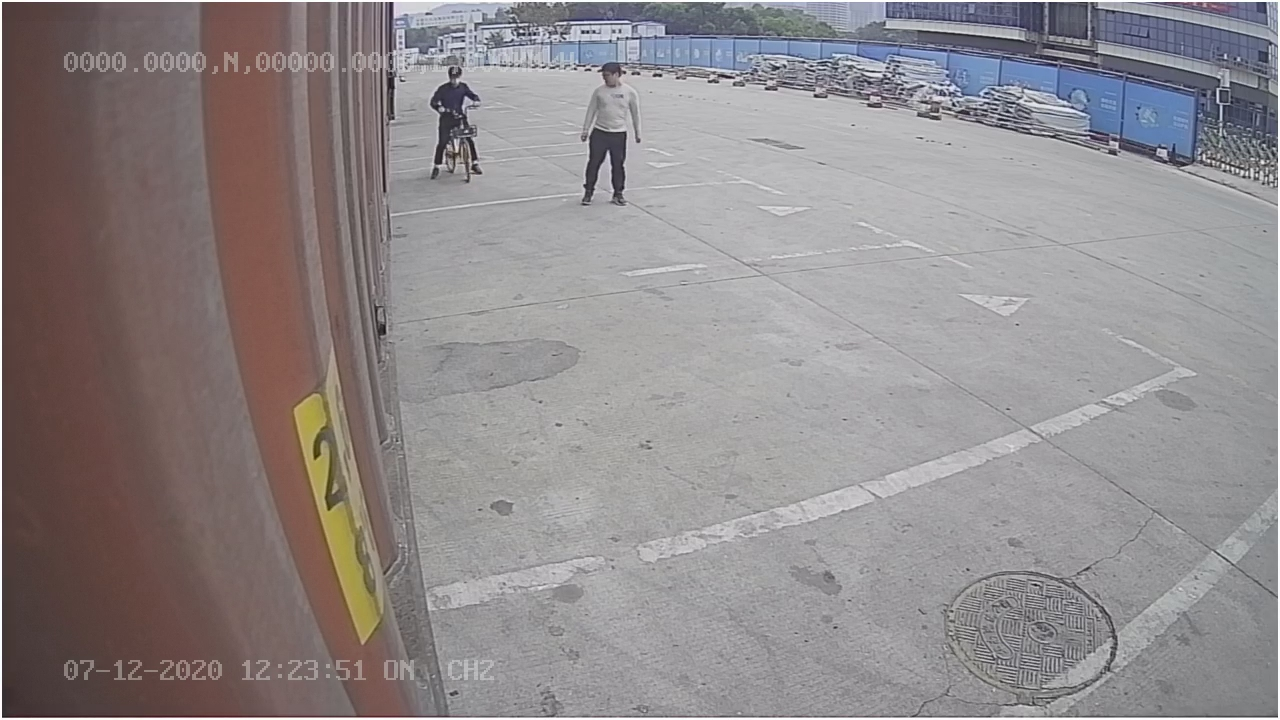person: (579, 60, 644, 204)
